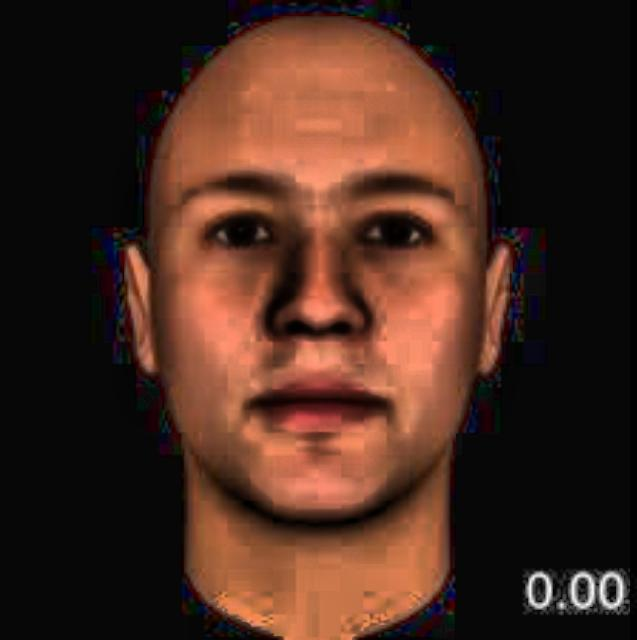neutral: (155, 65, 507, 509)
